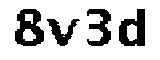3: (82, 3, 112, 52)
8: (13, 3, 46, 52)
d: (116, 5, 151, 50)
v: (46, 16, 82, 52)
